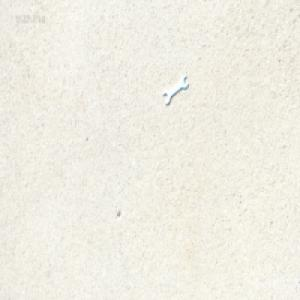Wrench: (163, 79, 187, 107)
